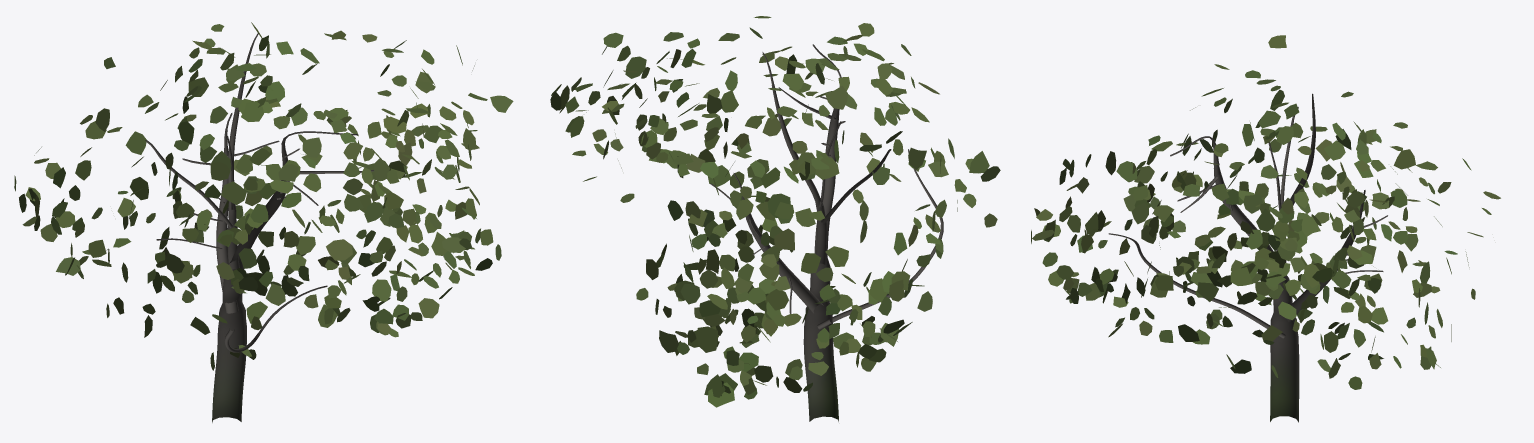
Rendered from SM_TreeFar_ash_4.glb.
The picture shows the model from 3 angles, left to right: view 1: azimuth 30°, elevation 25°; view 2: azimuth 150°, elevation 25°; view 3: azimuth 270°, elevation 25°; orthographic projection. The views are drawn at different scales.
Visible parts, largest first — view 1: SM_TreeFar_ash_4; view 2: SM_TreeFar_ash_4; view 3: SM_TreeFar_ash_4.
Boxes of the visible parts, x1=… form: SM_TreeFar_ash_4: x1=14, y1=22, x2=513, y2=422; SM_TreeFar_ash_4: x1=550, y1=16, x2=1000, y2=421; SM_TreeFar_ash_4: x1=1031, y1=35, x2=1500, y2=422.
Size of the model in its own units: 24.33 by 21.98 by 26.25.
